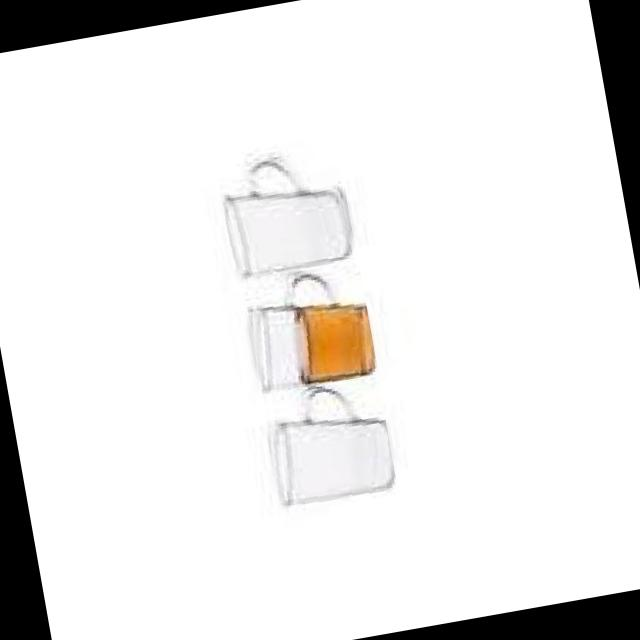Glass: (237, 256, 378, 394), (256, 372, 397, 508), (216, 144, 356, 279)
